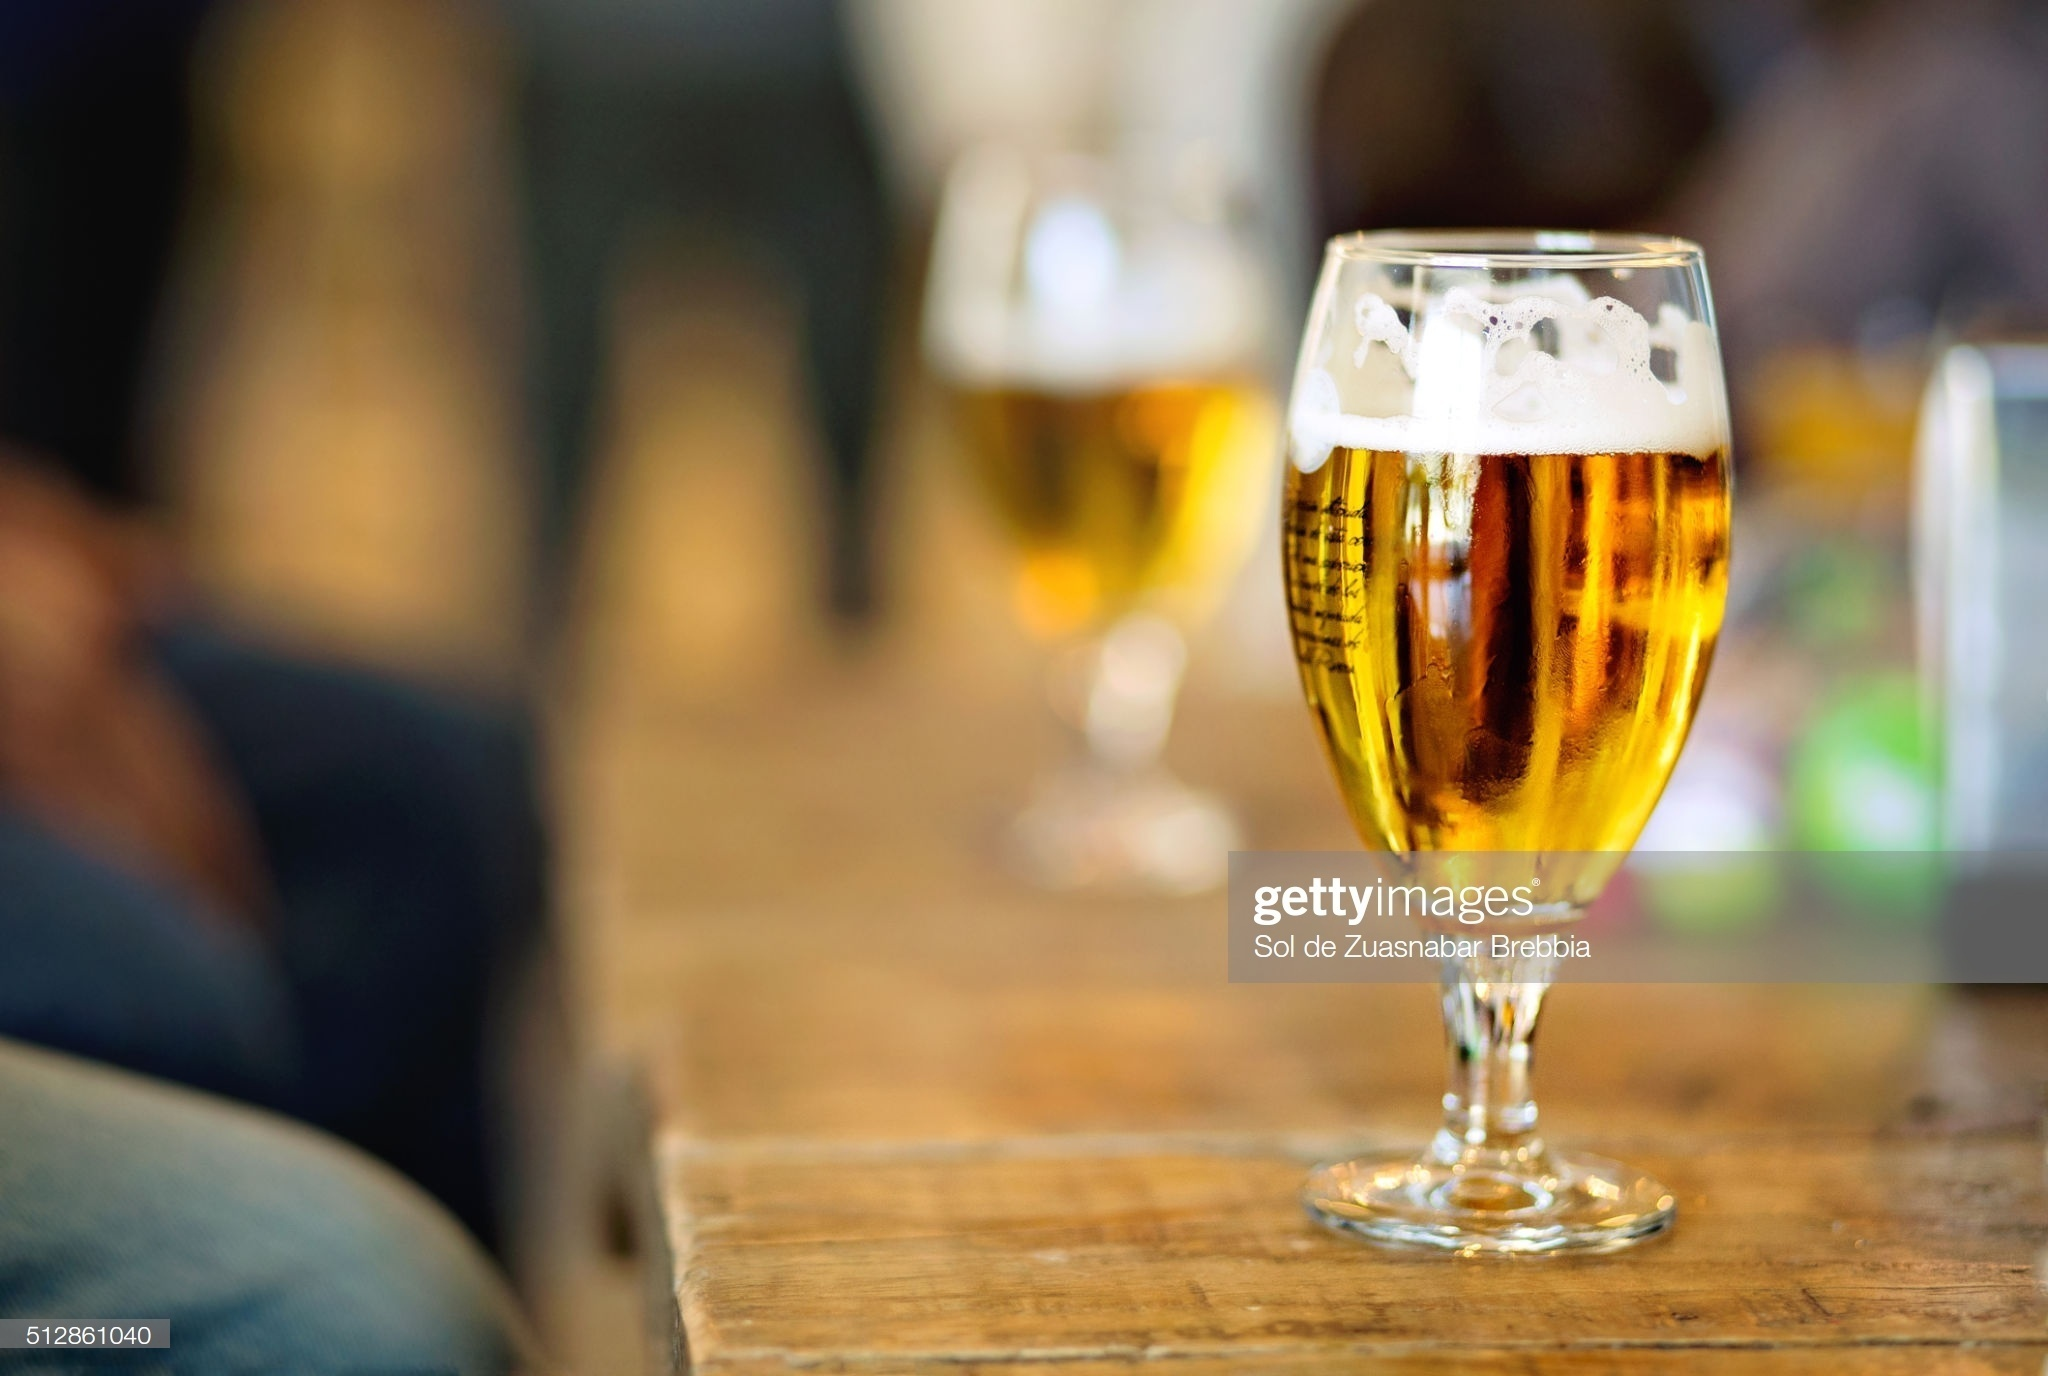whiskey: (1240, 213, 1742, 1238)
